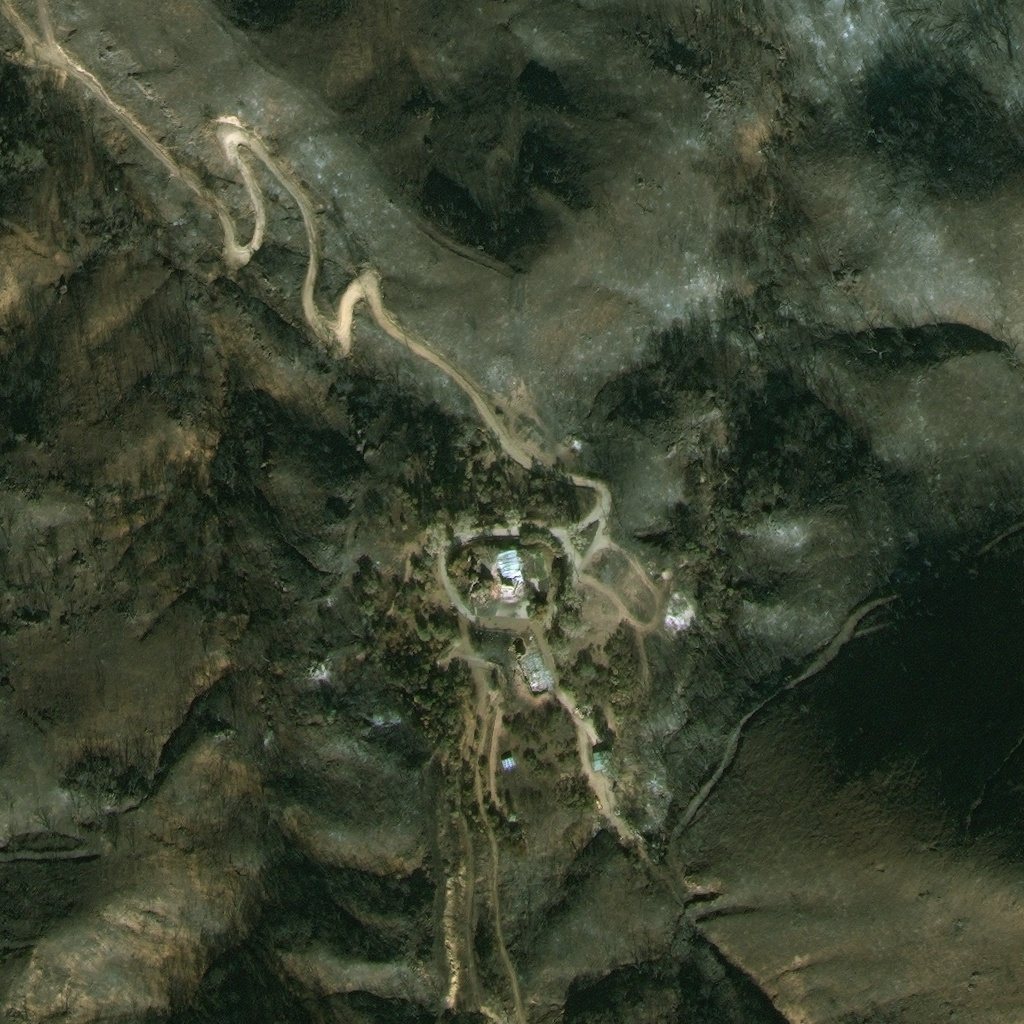0 no-damage: (592, 749, 605, 769), (499, 753, 515, 768)
3 destroyed: (515, 648, 551, 695), (493, 551, 523, 589), (641, 555, 655, 568), (574, 700, 585, 710)
4 un-classified: (577, 738, 585, 748)
